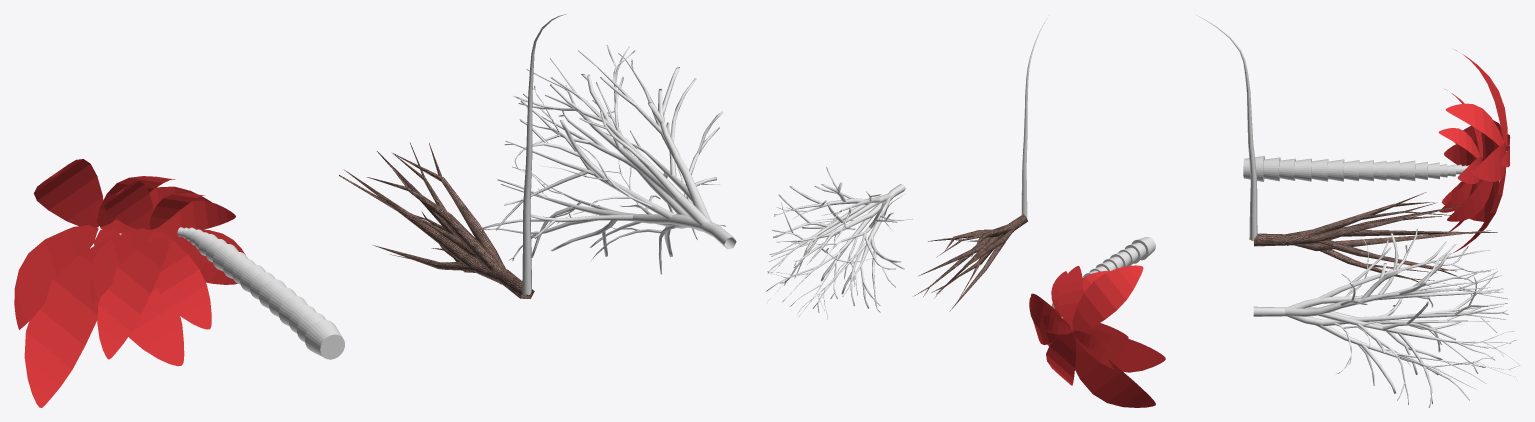
The model's file is Trees.fbx.
3 renders of one model, left to right at view 1: azimuth 30°, elevation 25°; view 2: azimuth 150°, elevation 25°; view 3: azimuth 270°, elevation 25°, orthographic. The views are drawn at different scales.
Parts seen in each view (by area): view 1: Cylinder, tree.001, tree, tree.002; view 2: Cylinder, tree.001, tree, tree.002; view 3: tree.001, Cylinder, tree, tree.002.
Part boxes in pixels (bbox=[...]): Cylinder: bbox=[14, 159, 344, 407]; tree.001: bbox=[482, 45, 736, 274]; tree: bbox=[339, 142, 534, 298]; tree.002: bbox=[522, 14, 566, 294]; Cylinder: bbox=[1029, 237, 1165, 407]; tree.001: bbox=[766, 166, 913, 319]; tree: bbox=[913, 214, 1027, 311]; tree.002: bbox=[1021, 16, 1048, 217]; tree.001: bbox=[1253, 229, 1520, 407]; Cylinder: bbox=[1243, 49, 1510, 252]; tree: bbox=[1254, 192, 1497, 286]; tree.002: bbox=[1194, 14, 1257, 241].
Bounding box in the file's own units: 484 × 306 × 283.
